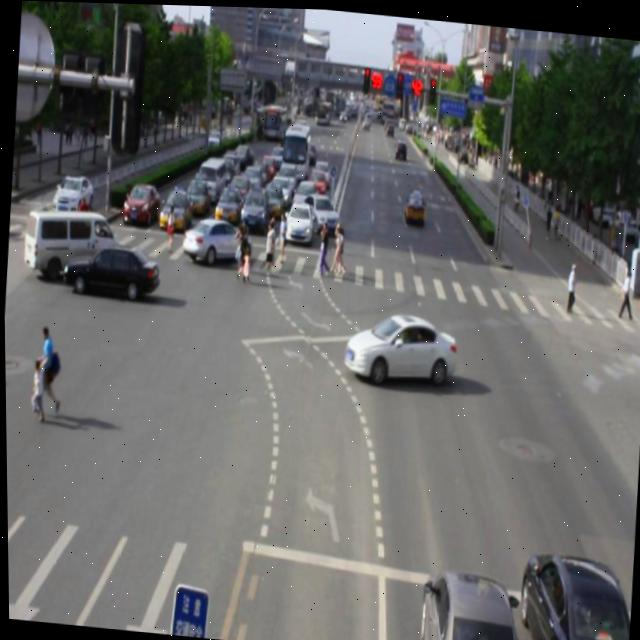car: (504, 536, 633, 640), (341, 302, 456, 388), (407, 555, 519, 640), (64, 238, 163, 301), (180, 213, 251, 266)
